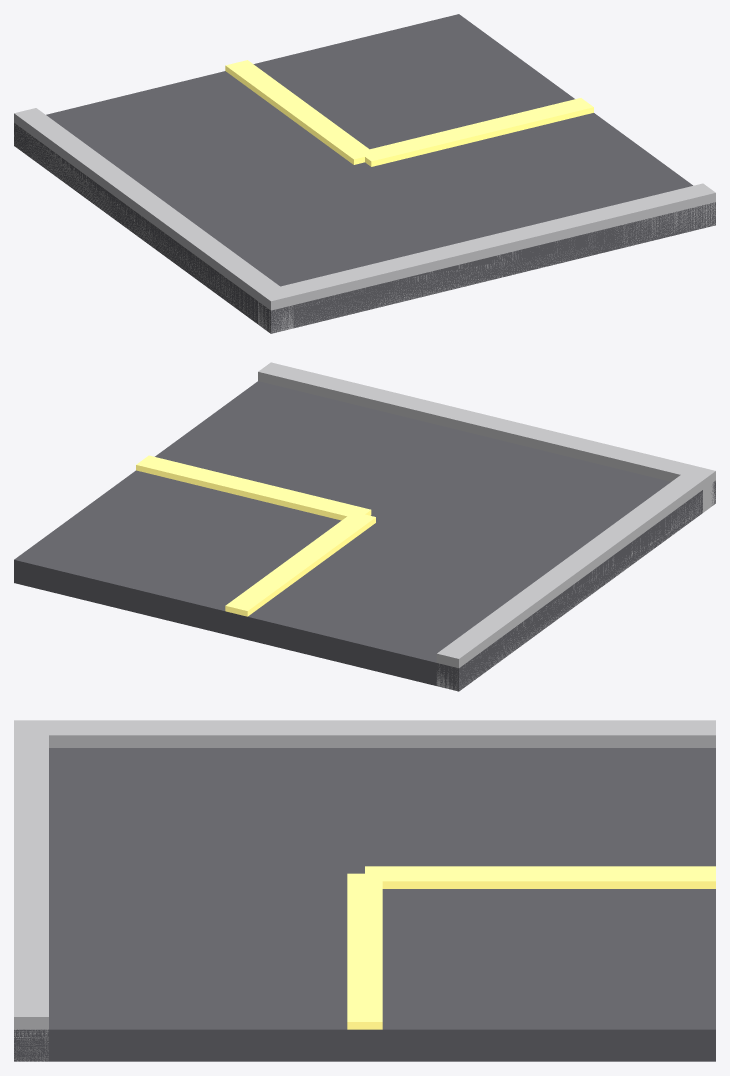
Rendered from road_corner_1.glb.
3 renders of one model, top to bottom at view 1: azimuth 30°, elevation 25°; view 2: azimuth 150°, elevation 25°; view 3: azimuth 270°, elevation 25°, orthographic. The views are drawn at different scales.
Parts seen in each view (by area): view 1: road_corner_1; view 2: road_corner_1; view 3: road_corner_1.
Part boxes in pixels (x1=…): road_corner_1: x1=14, y1=14, x2=715, y2=333; road_corner_1: x1=14, y1=362, x2=715, y2=691; road_corner_1: x1=14, y1=720, x2=715, y2=1061.
Bounding box in the file's own units: 1 × 0.07 × 1.
